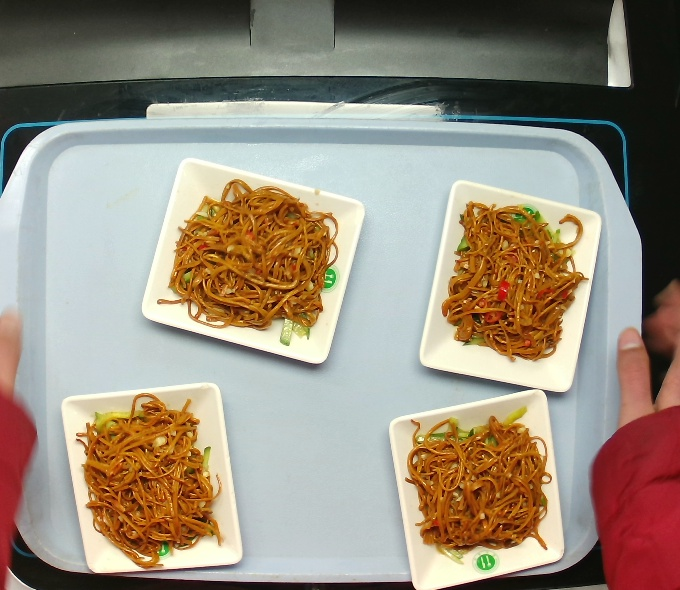wcq-LiangBanChongCaoHua: (156, 179, 339, 340), (80, 393, 232, 566), (441, 202, 597, 365), (404, 415, 553, 554)
